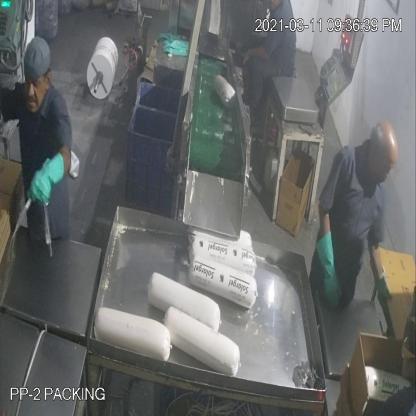glove: (304, 220, 350, 324), (29, 154, 65, 219), (372, 258, 390, 318)
no_glove: (236, 36, 277, 68)
